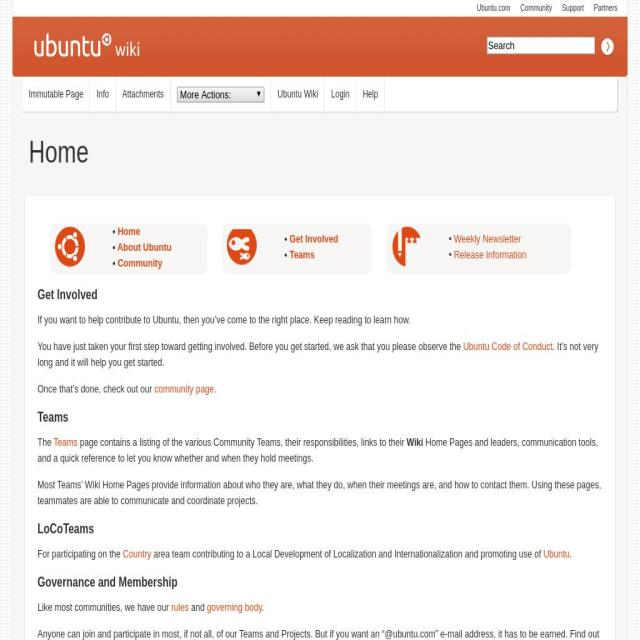field: (487, 37, 595, 54), (177, 86, 265, 102), (600, 38, 615, 58)
heading: (38, 285, 602, 305), (38, 408, 602, 428), (38, 519, 602, 539), (38, 572, 602, 592), (12, 17, 162, 76), (29, 135, 89, 169)
image: (55, 226, 85, 266), (227, 226, 257, 266), (391, 226, 421, 266)
link: (462, 340, 552, 352), (453, 248, 528, 261), (454, 233, 522, 245), (154, 383, 214, 395), (206, 601, 262, 613), (117, 241, 171, 253), (289, 233, 339, 245), (118, 257, 163, 269), (122, 88, 164, 100), (278, 88, 318, 100), (122, 548, 152, 560), (289, 248, 315, 261), (543, 548, 570, 560), (53, 436, 78, 448), (476, 4, 511, 12), (118, 225, 140, 237), (520, 4, 552, 12), (330, 88, 350, 100), (170, 601, 188, 613), (594, 4, 618, 12), (362, 88, 378, 100), (562, 4, 584, 12), (96, 88, 110, 100)
text: (38, 478, 602, 507), (38, 340, 598, 368), (38, 436, 598, 464), (37, 627, 599, 640), (38, 340, 463, 352), (38, 313, 410, 326), (151, 548, 544, 560), (78, 436, 408, 448), (37, 601, 172, 613), (38, 383, 154, 395), (38, 548, 123, 560), (29, 88, 83, 100), (188, 601, 208, 613), (406, 436, 423, 448), (38, 436, 54, 448), (284, 248, 290, 261), (448, 248, 454, 261), (112, 225, 118, 237), (112, 241, 118, 253), (112, 257, 118, 269), (284, 233, 290, 245), (448, 233, 454, 245), (214, 383, 217, 395), (570, 548, 572, 560), (262, 601, 264, 613)
